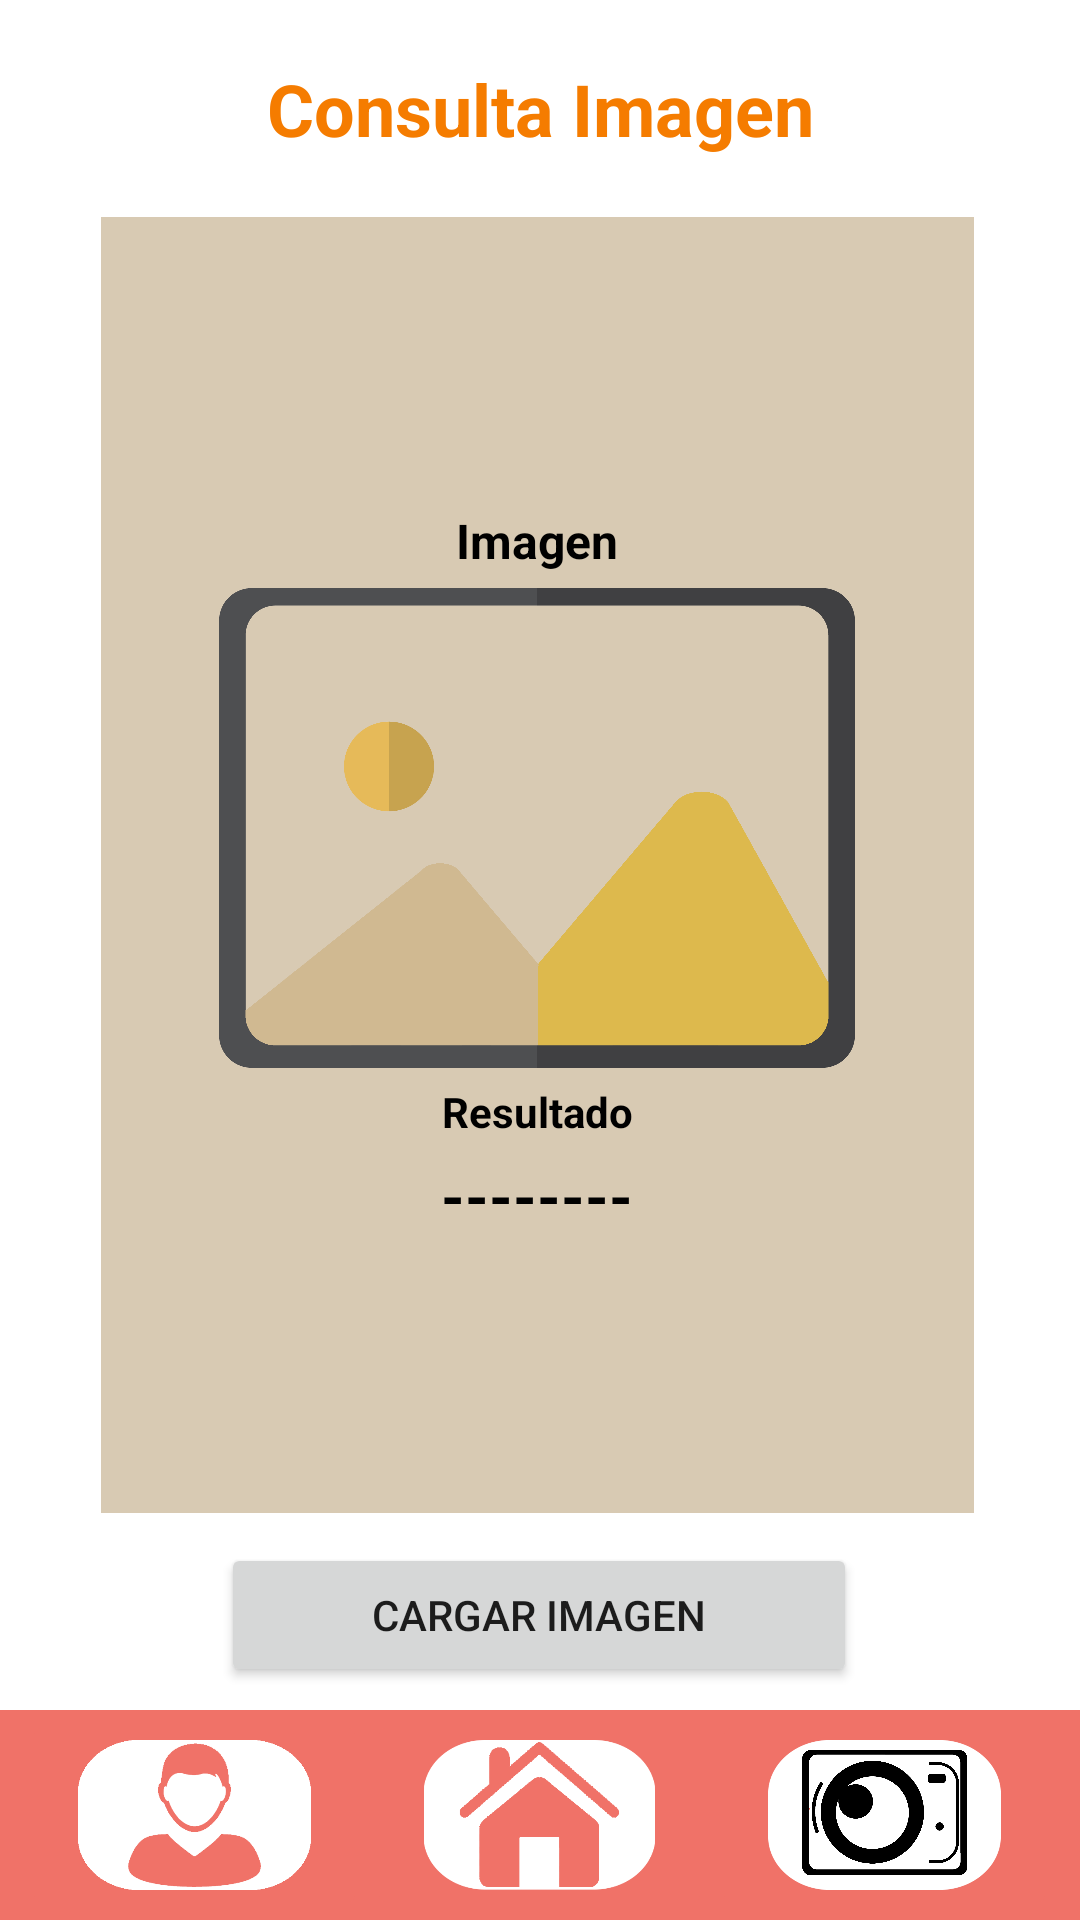

Named icons in this screenshot (1080 x 1920) and their bounding boxes, (x1, y1, x2, y2):
cam on: (768, 1740, 1001, 1890)
casa on: (424, 1740, 655, 1890)
user on: (78, 1740, 311, 1890)
